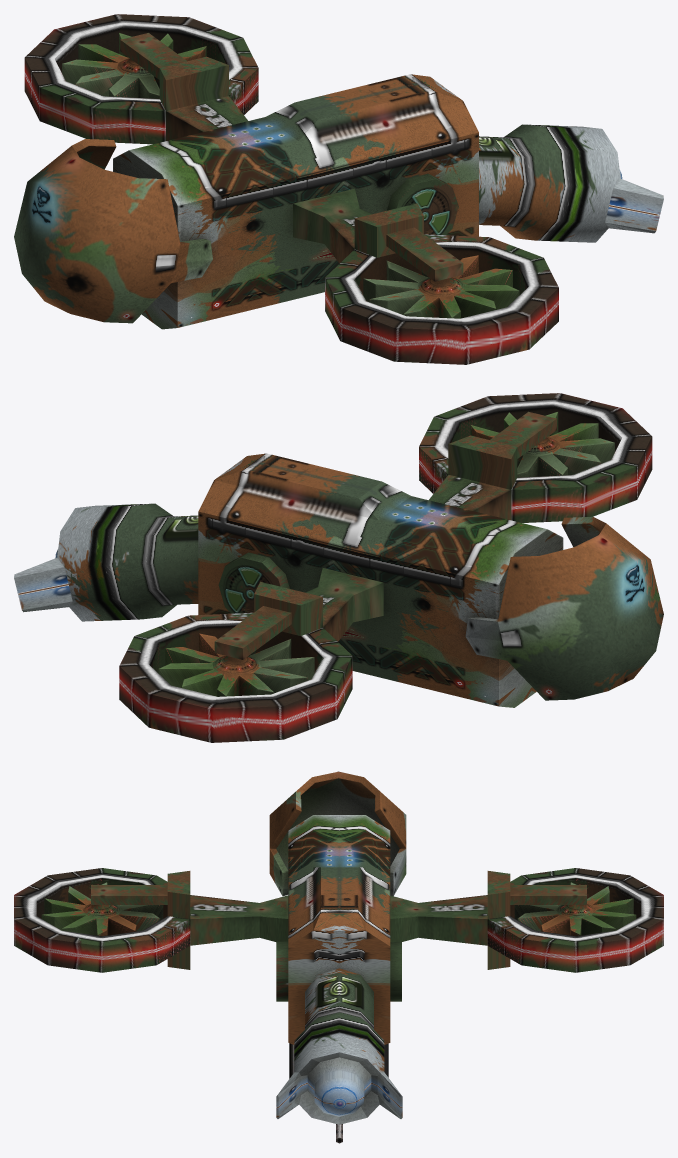
File: Spacecraft.FBX
The picture shows the model from 3 angles, top to bottom: view 1: azimuth 30°, elevation 25°; view 2: azimuth 150°, elevation 25°; view 3: azimuth 270°, elevation 25°; orthographic projection. The views are drawn at different scales.
Parts seen in each view (by area): view 1: Spacecraft; view 2: Spacecraft; view 3: Spacecraft.
Boxes of the visible parts, <box> form: Spacecraft: <box>14,14,663,364</box>; Spacecraft: <box>14,393,663,742</box>; Spacecraft: <box>14,771,663,1143</box>.
Bounding box in the file's own units: 581 × 257 × 687.
